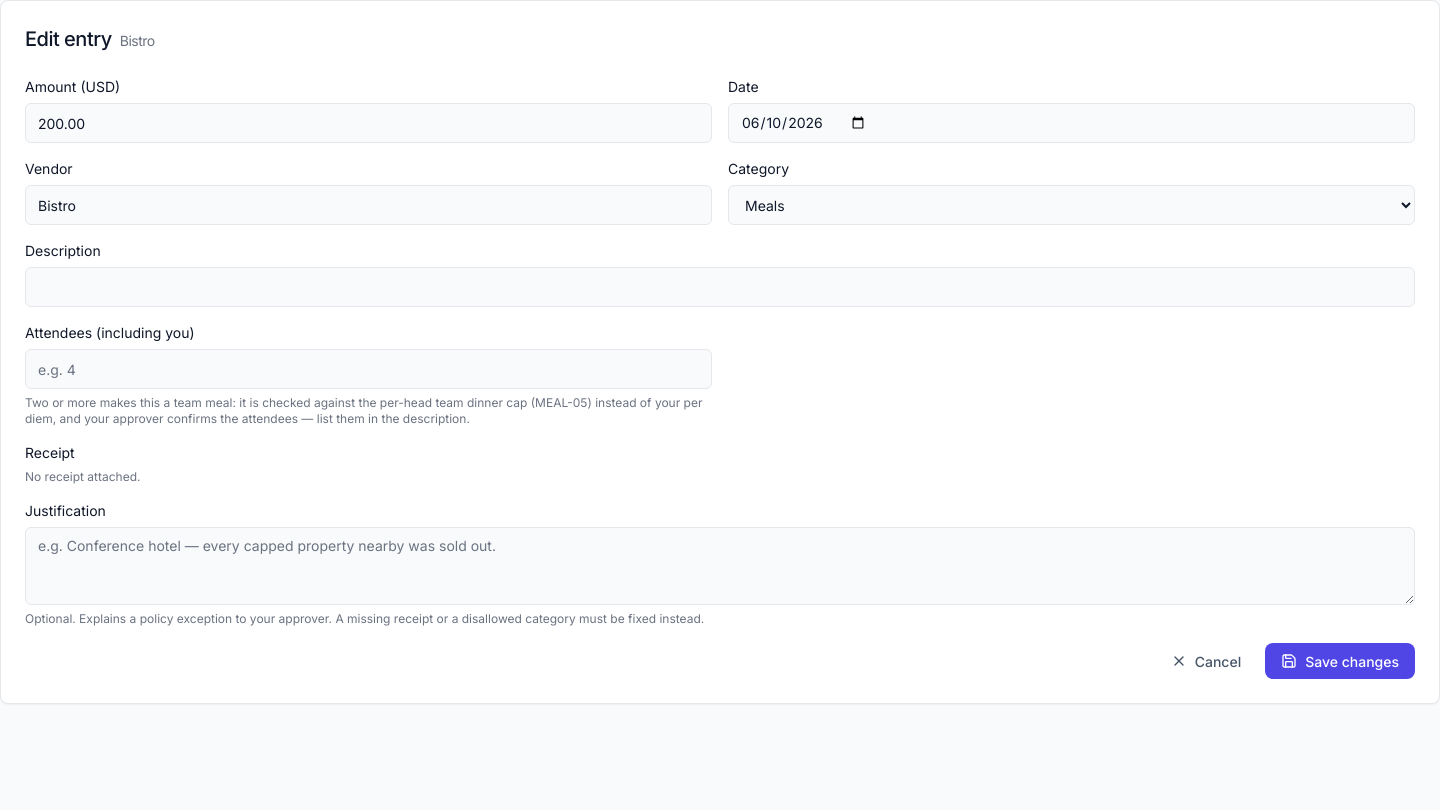
Test case: category-gated fields › refuses a non-numeric attendee count
This screenshot has width=1440, height=810.
Type "two" into the field with test id "entry-attendees" at (368, 369), box [25, 349, 712, 389]
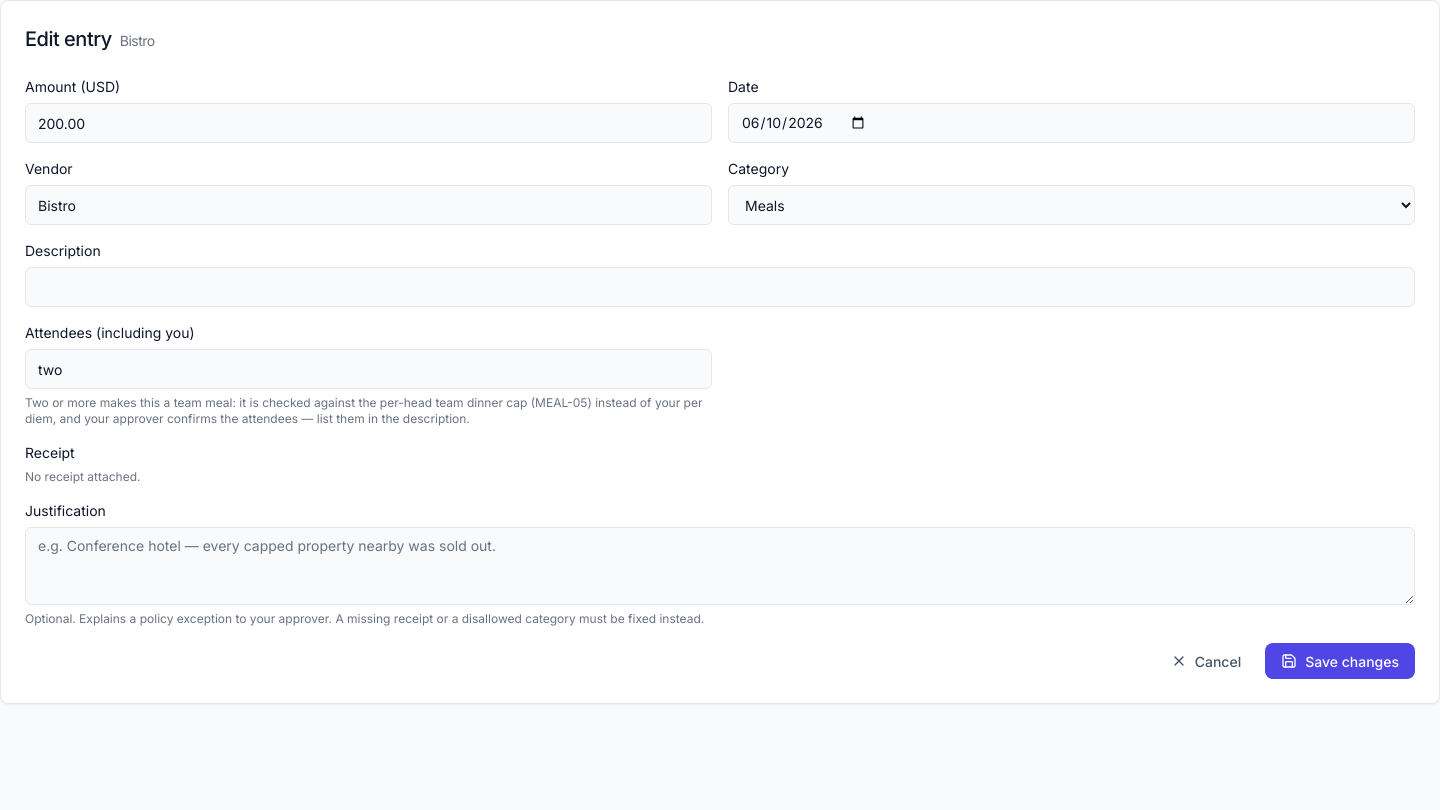
Click the button "Save changes" at (1340, 661), box [1265, 643, 1415, 679]
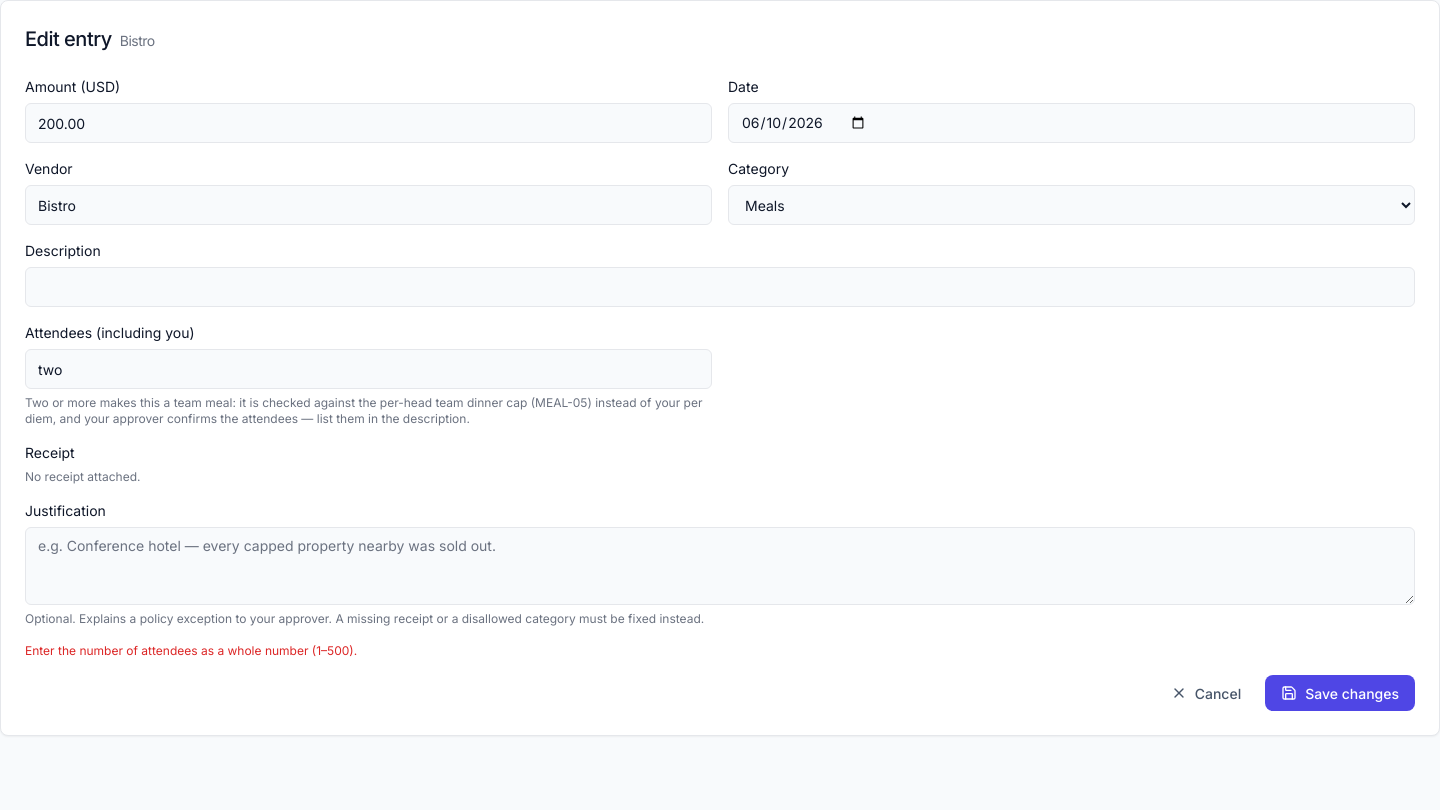
expect the message shows "attendees": met, box [25, 643, 357, 658]
